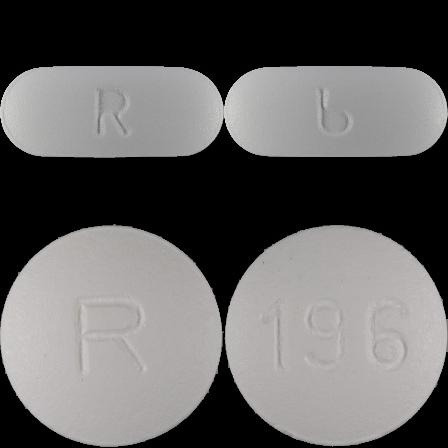55111-190: (0, 0, 224, 224)
